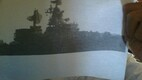tau_muctieu: (1, 3, 123, 53)
